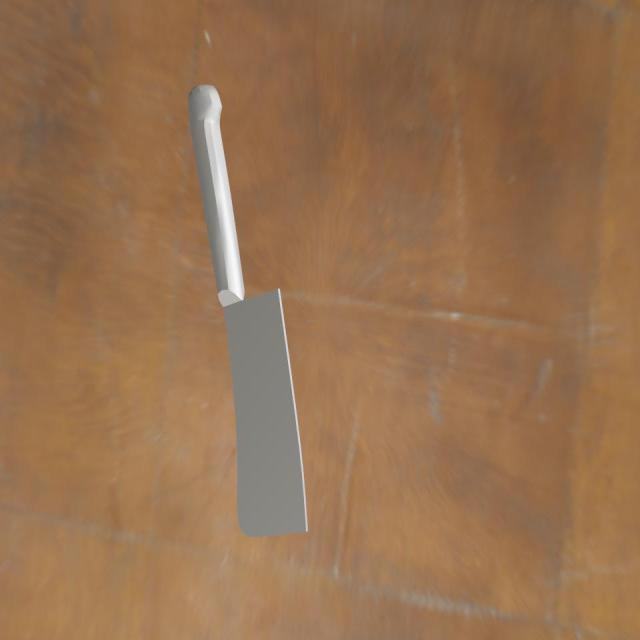knife: (182, 75, 242, 306)
